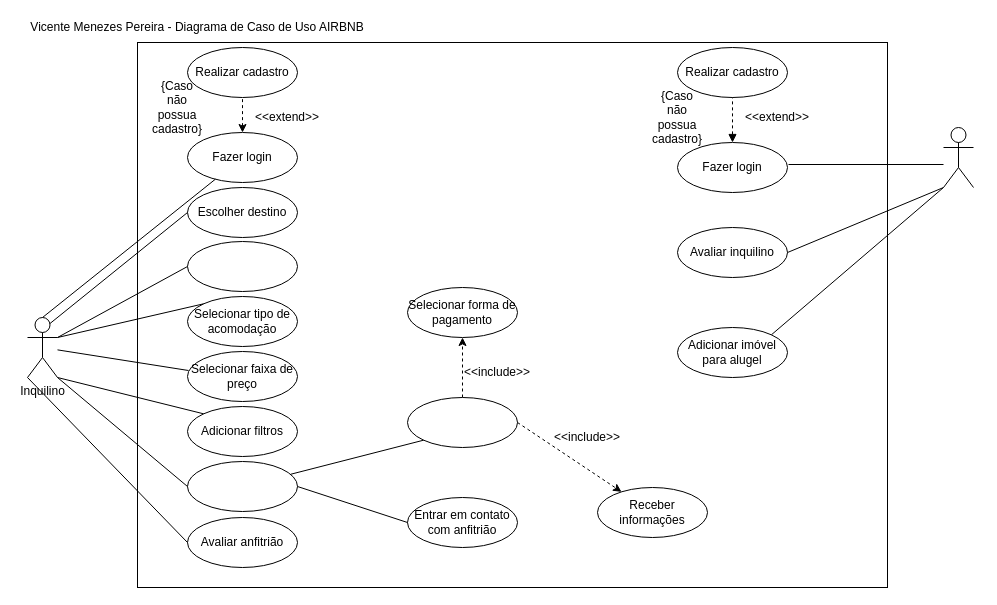
This 997x605 diagram has some shape labels left out. Here are the shapes that lost their labels. From the top down, the centre of each, then its label:
At point 958,157: "Anfitrião".
At point 242,266: "Inserir data de entrada e saída".
At point 462,422: "Realizar pagamento".
At point 242,486: "Escolher hospedagem disponível".
